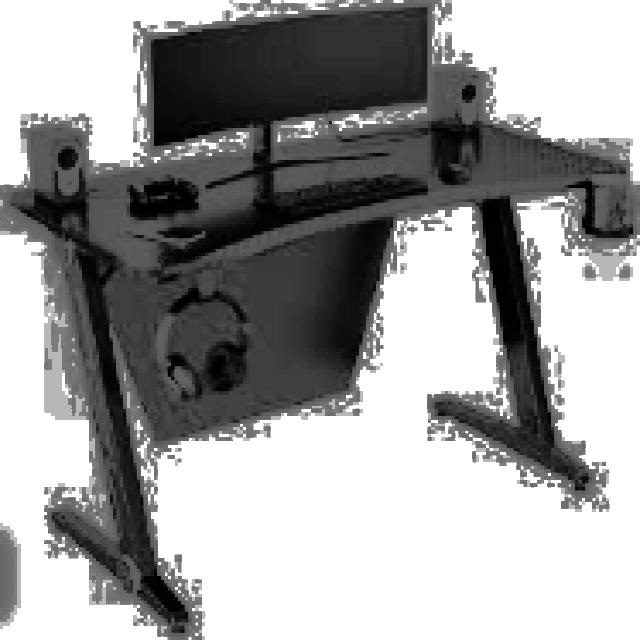table: (4, 107, 633, 633)
